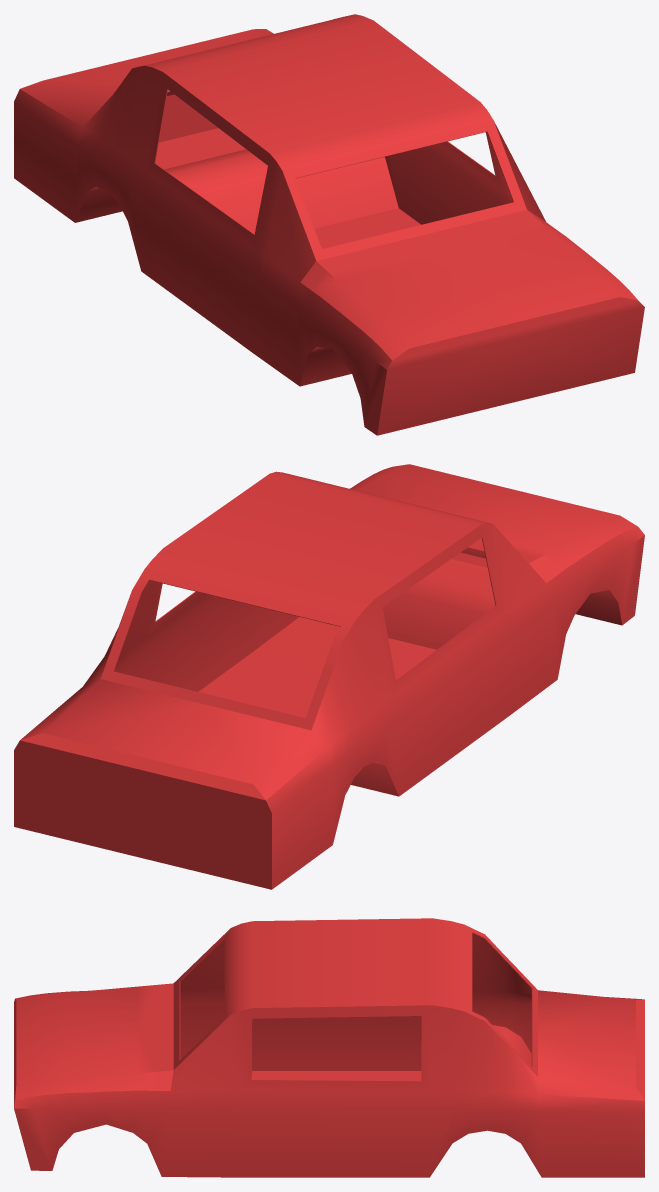
Rendered from car.glb.
3 renders of one model, top to bottom at view 1: azimuth 30°, elevation 25°; view 2: azimuth 150°, elevation 25°; view 3: azimuth 270°, elevation 25°, orthographic. The views are drawn at different scales.
Parts seen in each view (by area): view 1: Car; view 2: Car; view 3: Car.
Boxes of the visible parts, left/top/right/bottom form: Car: left=14, top=14, right=644, bottom=435; Car: left=14, top=464, right=644, bottom=889; Car: left=14, top=918, right=644, bottom=1177.
Size of the model in its own units: 3.24 by 2.31 by 8.12.
